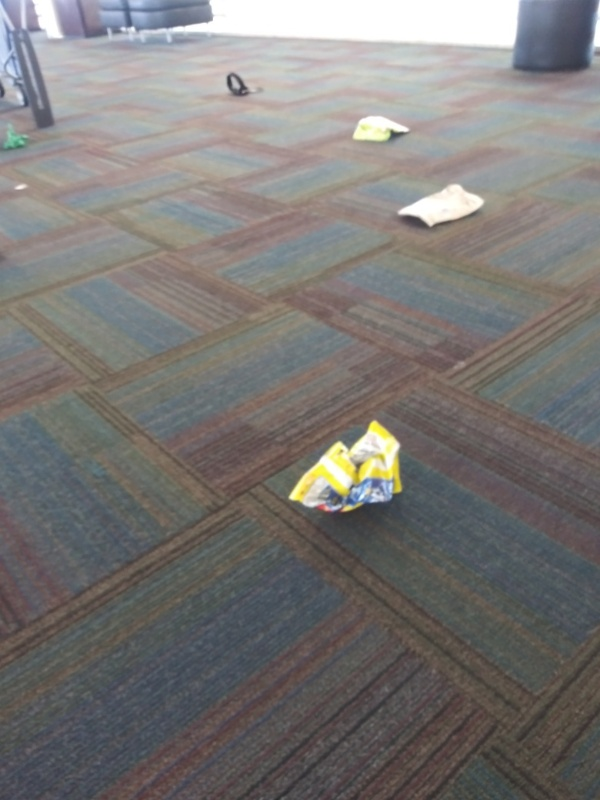bag: (282, 416, 413, 518), (393, 178, 491, 231), (348, 111, 414, 144)
